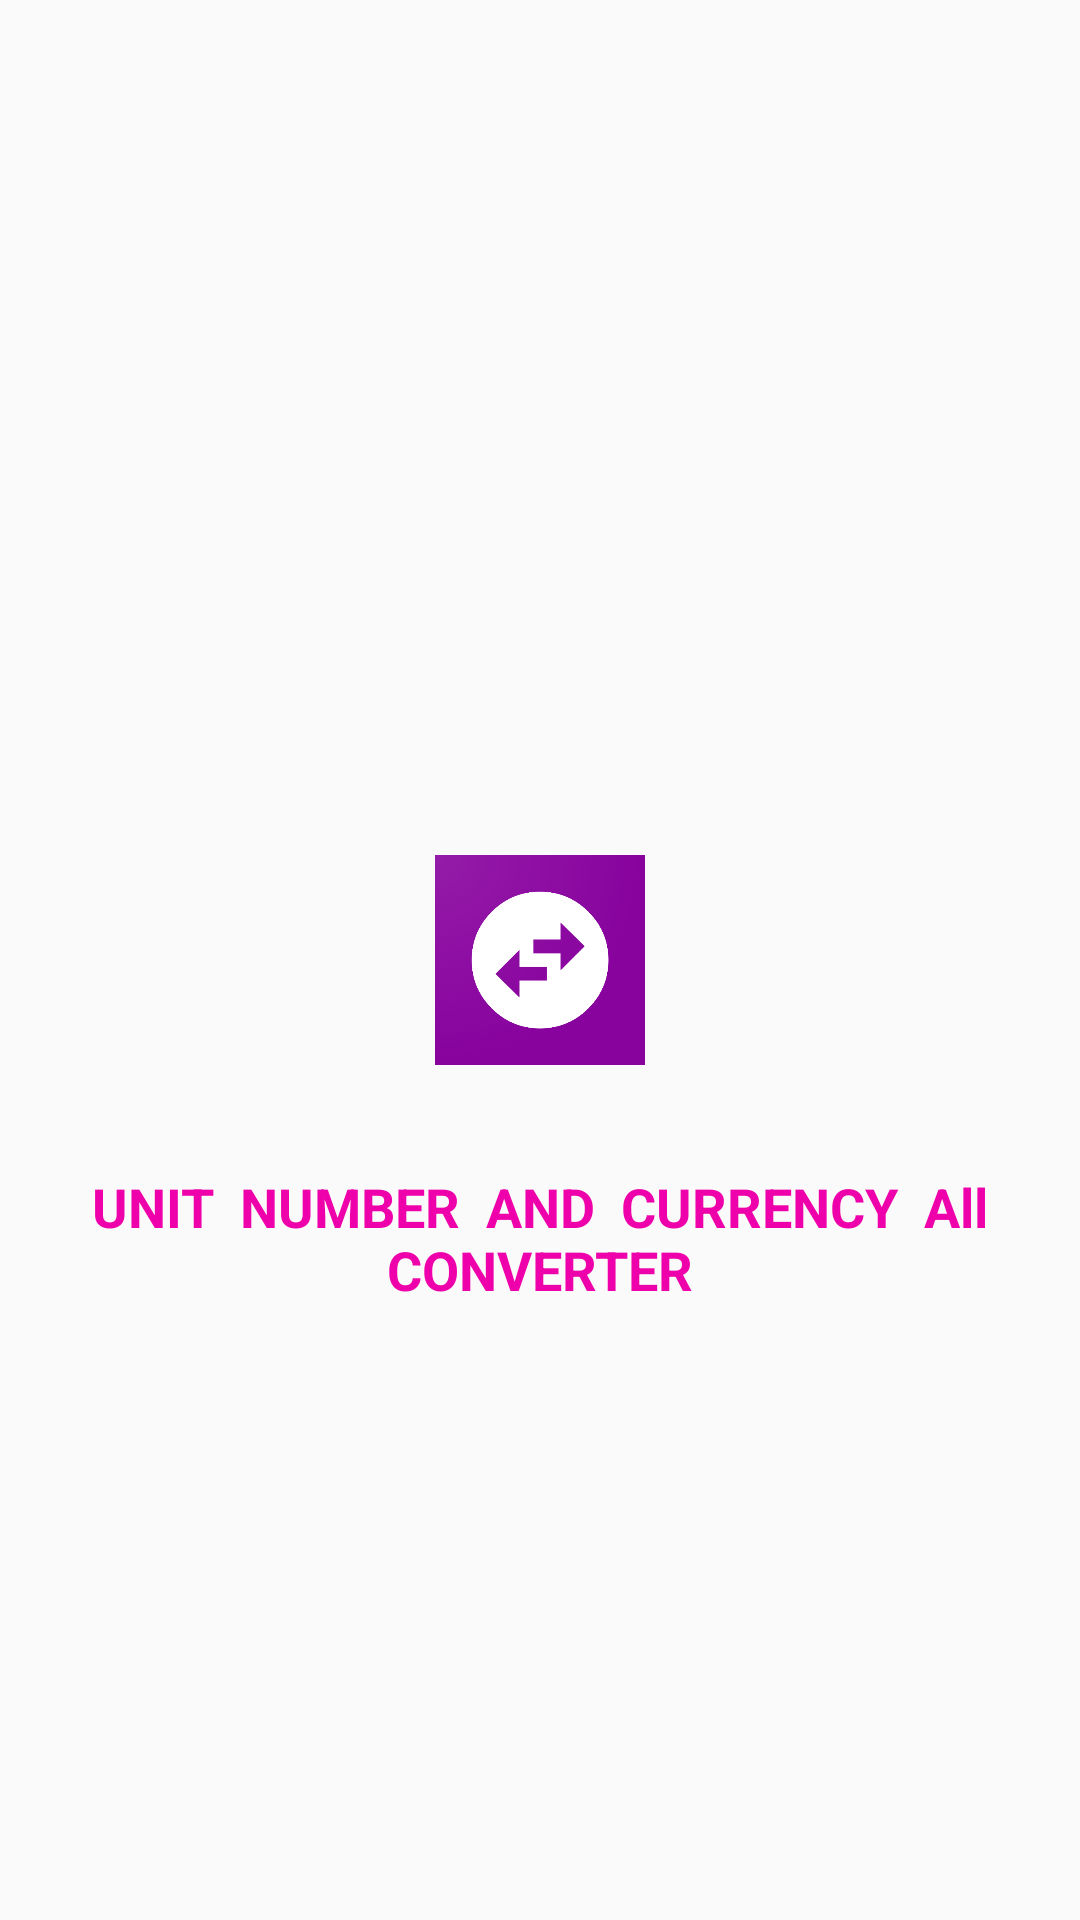

Icon bounding boxes for this 1080×1920 phone screenshot, format (x1, y1, x2, y2):
app: (435, 855, 645, 1065)
